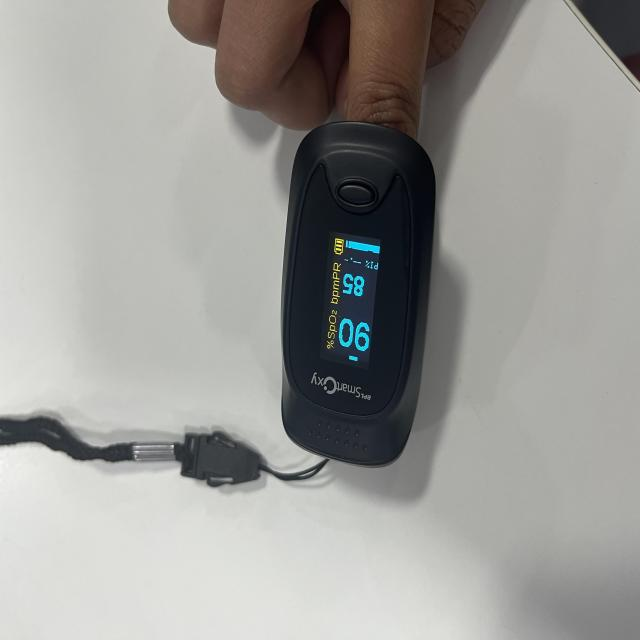spo2: (280, 123, 438, 469)
